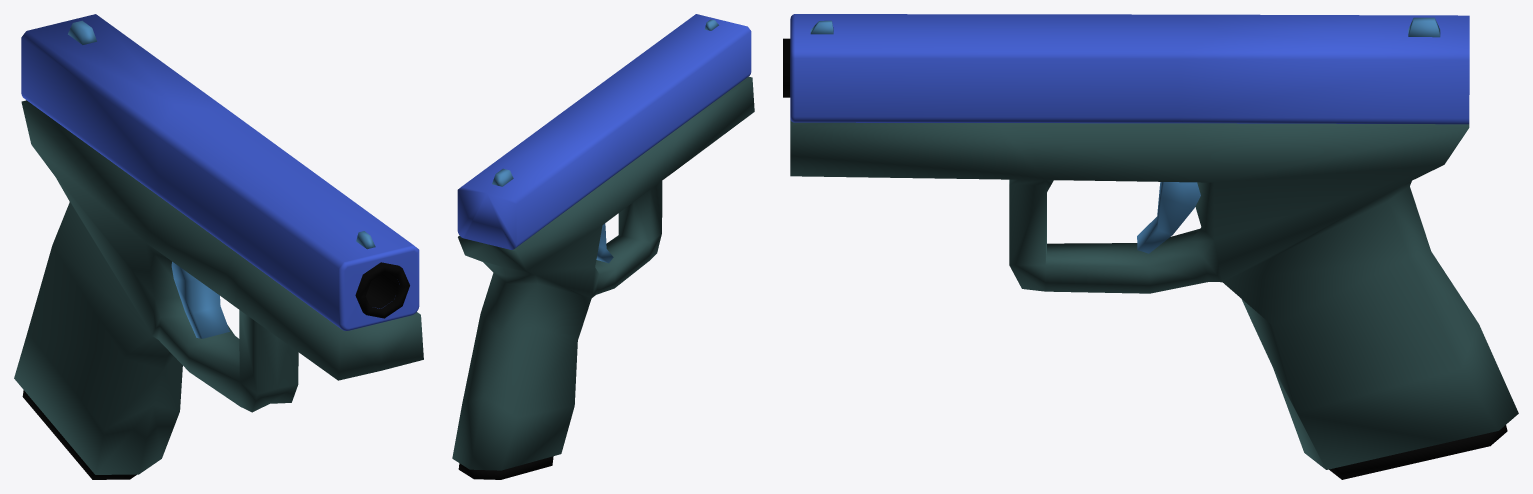
Rendered from gun.glb.
The picture shows the model from 3 angles, left to right: view 1: azimuth 30°, elevation 25°; view 2: azimuth 150°, elevation 25°; view 3: azimuth 270°, elevation 25°; orthographic projection. The views are drawn at different scales.
Parts seen in each view (by area): view 1: Cube, Cube.001, Cube.004, Circle, Cube.002; view 2: Cube, Cube.001, Cube.004; view 3: Cube, Cube.001, Cube.004.
Boxes of the visible parts, x1=… form: Cube: x1=14, y1=100, x2=423, y2=479; Cube.001: x1=21, y1=14, x2=419, y2=330; Cube.004: x1=171, y1=261, x2=229, y2=338; Circle: x1=355, y1=262, x2=409, y2=318; Cube.002: x1=68, y1=20, x2=96, y2=44; Cube: x1=452, y1=76, x2=754, y2=479; Cube.001: x1=457, y1=14, x2=751, y2=249; Cube.004: x1=596, y1=223, x2=613, y2=263; Cube: x1=790, y1=119, x2=1518, y2=479; Cube.001: x1=790, y1=14, x2=1469, y2=124; Cube.004: x1=1137, y1=182, x2=1200, y2=253.
Size of the model in its own units: 0.5428 by 2.54 by 3.8.
